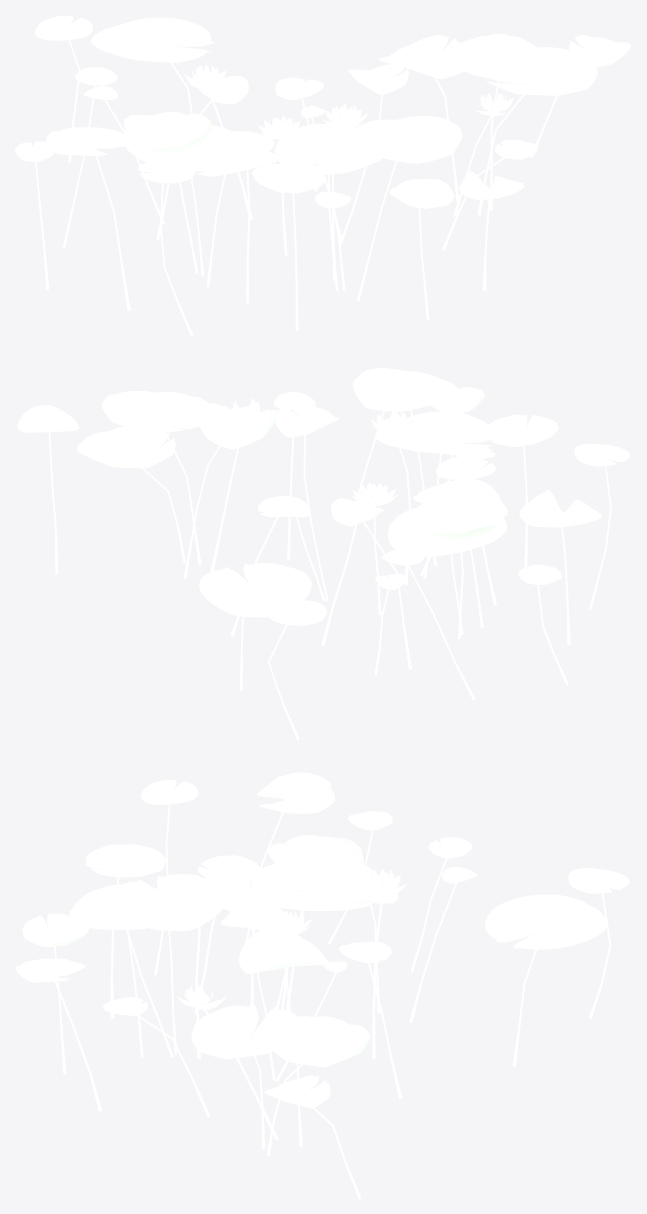
3 renders of one model, top to bottom at view 1: azimuth 30°, elevation 25°; view 2: azimuth 150°, elevation 25°; view 3: azimuth 270°, elevation 25°, orthographic. The views are drawn at different scales.
Parts seen in each view (by area): view 1: SM_WaterLily_01_LOD0; view 2: SM_WaterLily_01_LOD0; view 3: SM_WaterLily_01_LOD0.
Part boxes in pixels (bbox=[...]): SM_WaterLily_01_LOD0: bbox=[15, 15, 630, 336]; SM_WaterLily_01_LOD0: bbox=[17, 367, 629, 740]; SM_WaterLily_01_LOD0: bbox=[16, 772, 629, 1198].
Bounding box in the file's own units: 3.43 × 1.02 × 3.04.
Materials: 1 (1 with a texture image).
